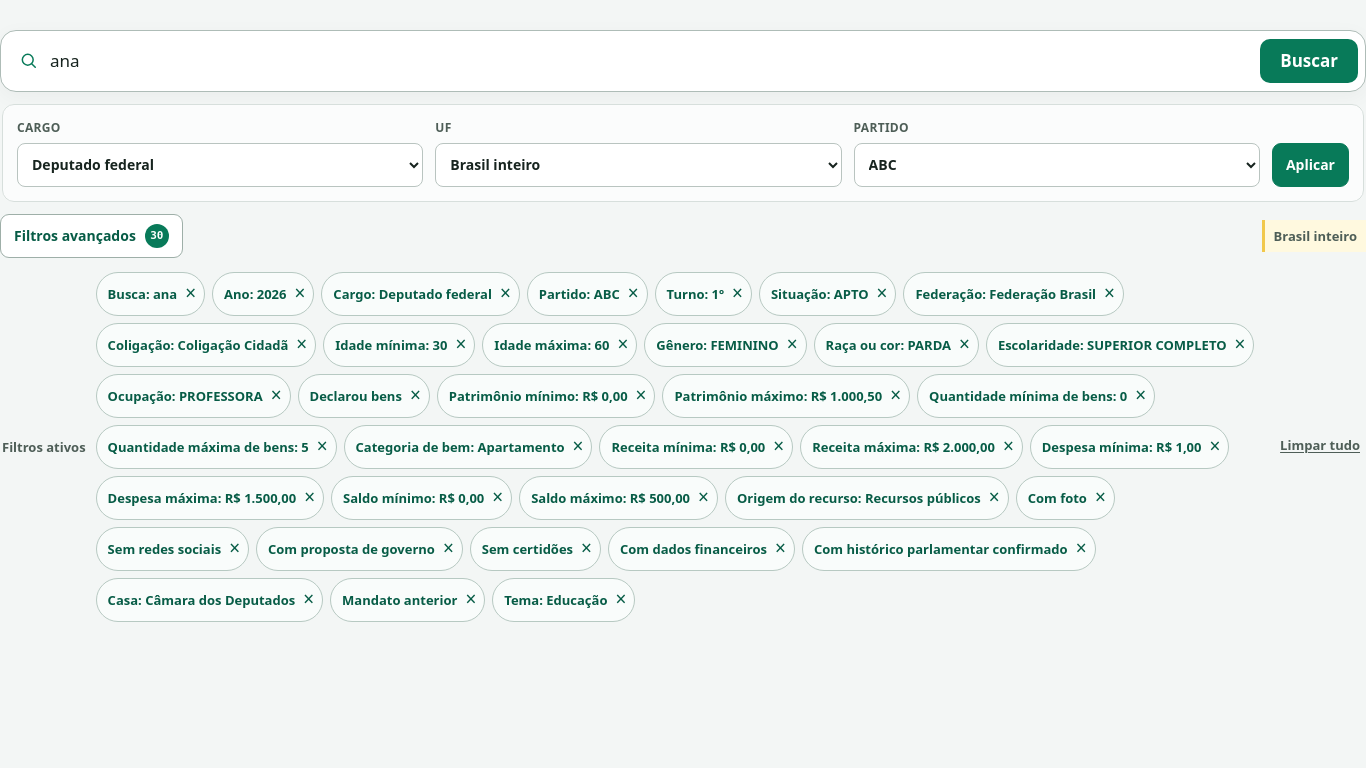
candidate catalog › debounces an exact wire-safe preview and strips pagination
The image size is (1366, 768).
Click the button "Filtros avançados 30" at (91, 236), box [0,214,183,258]
Wait 300 ms
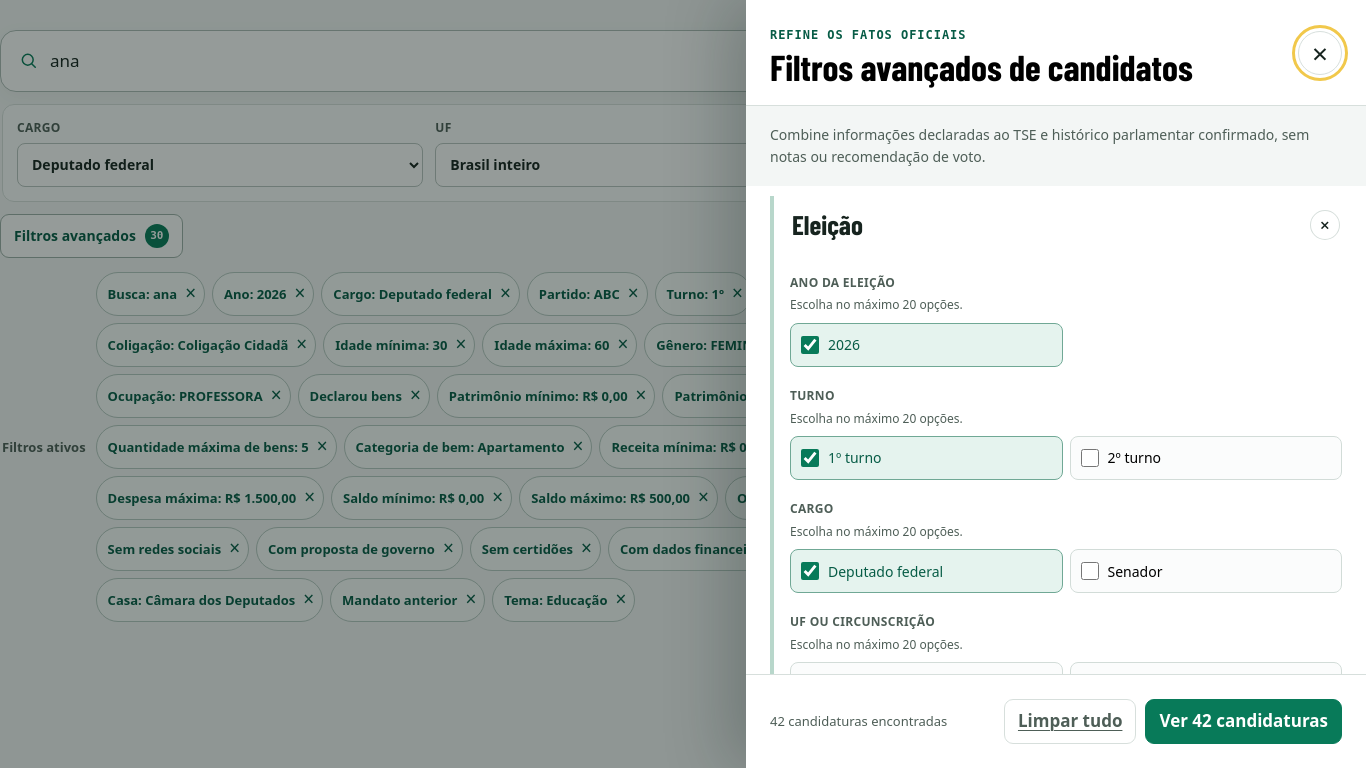
Expected: the message reads "42 candidaturas encontradas", [770,712,947,730]
